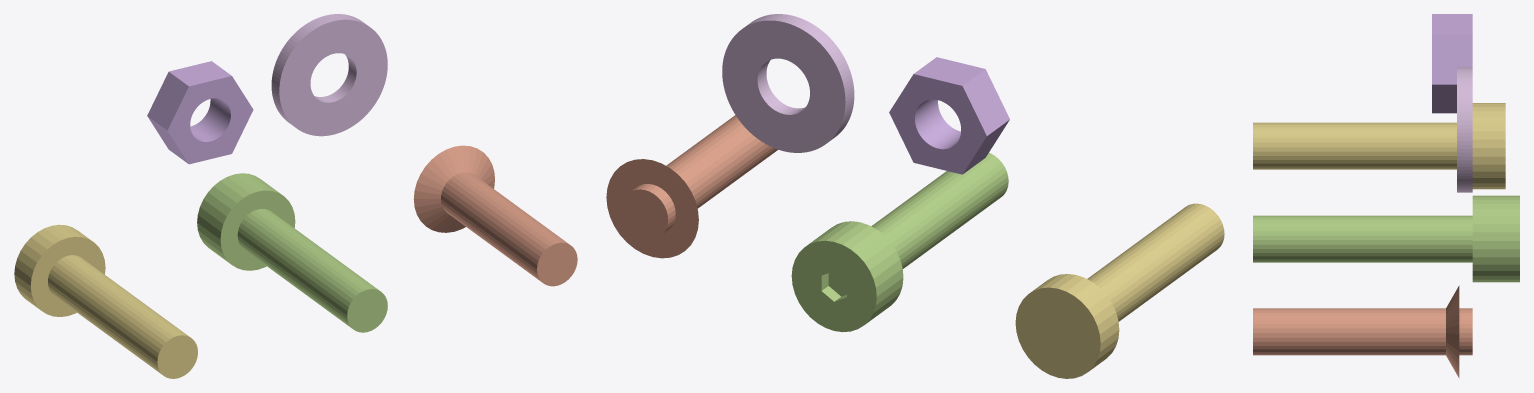
Rendered from fastener_trio_demo.glb.
3 views of the same model, side by side, from view 1: azimuth 30°, elevation 25°; view 2: azimuth 150°, elevation 25°; view 3: azimuth 270°, elevation 25° (orthographic). The views are drawn at different scales.
Visible parts, largest first — view 1: shcs_screw, pan_screw, csk_screw, washer, hex_nut; view 2: shcs_screw, pan_screw, washer, csk_screw, hex_nut; view 3: shcs_screw, pan_screw, csk_screw, hex_nut, washer.
Boxes of the visible parts, x1,y1,x2,y2 form: shcs_screw: [197, 173, 387, 332]; pan_screw: [14, 224, 197, 378]; csk_screw: [413, 145, 577, 286]; washer: [271, 14, 387, 136]; hex_nut: [147, 61, 253, 164]; shcs_screw: [791, 153, 1008, 332]; pan_screw: [1015, 203, 1224, 378]; washer: [722, 14, 854, 152]; csk_screw: [606, 115, 777, 258]; hex_nut: [889, 57, 1009, 174]; shcs_screw: [1253, 195, 1519, 282]; pan_screw: [1253, 103, 1505, 189]; csk_screw: [1253, 285, 1472, 378]; hex_nut: [1432, 14, 1472, 113]; washer: [1457, 67, 1472, 192].
Bounding box in the file's own units: 33.76 × 17 × 17.
